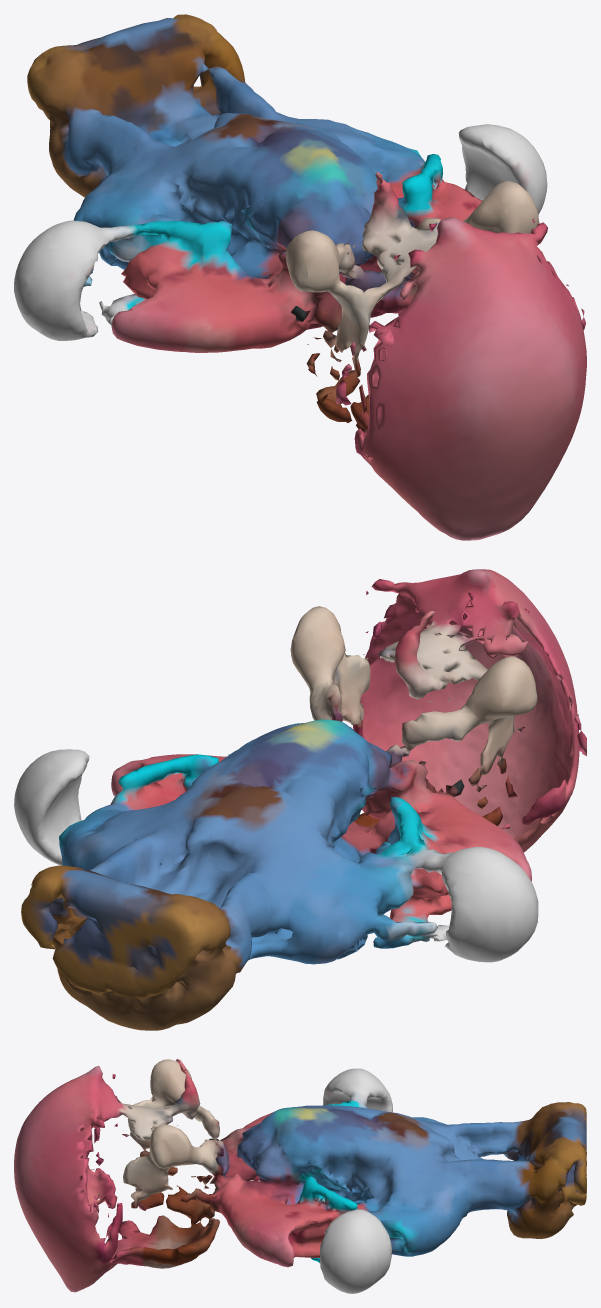
File: mario.glb
The picture shows the model from 3 angles, top to bottom: view 1: azimuth 30°, elevation 25°; view 2: azimuth 150°, elevation 25°; view 3: azimuth 270°, elevation 25°; orthographic projection. The views are drawn at different scales.
Size of the model in its own units: 0.7201 by 0.4172 by 1.
